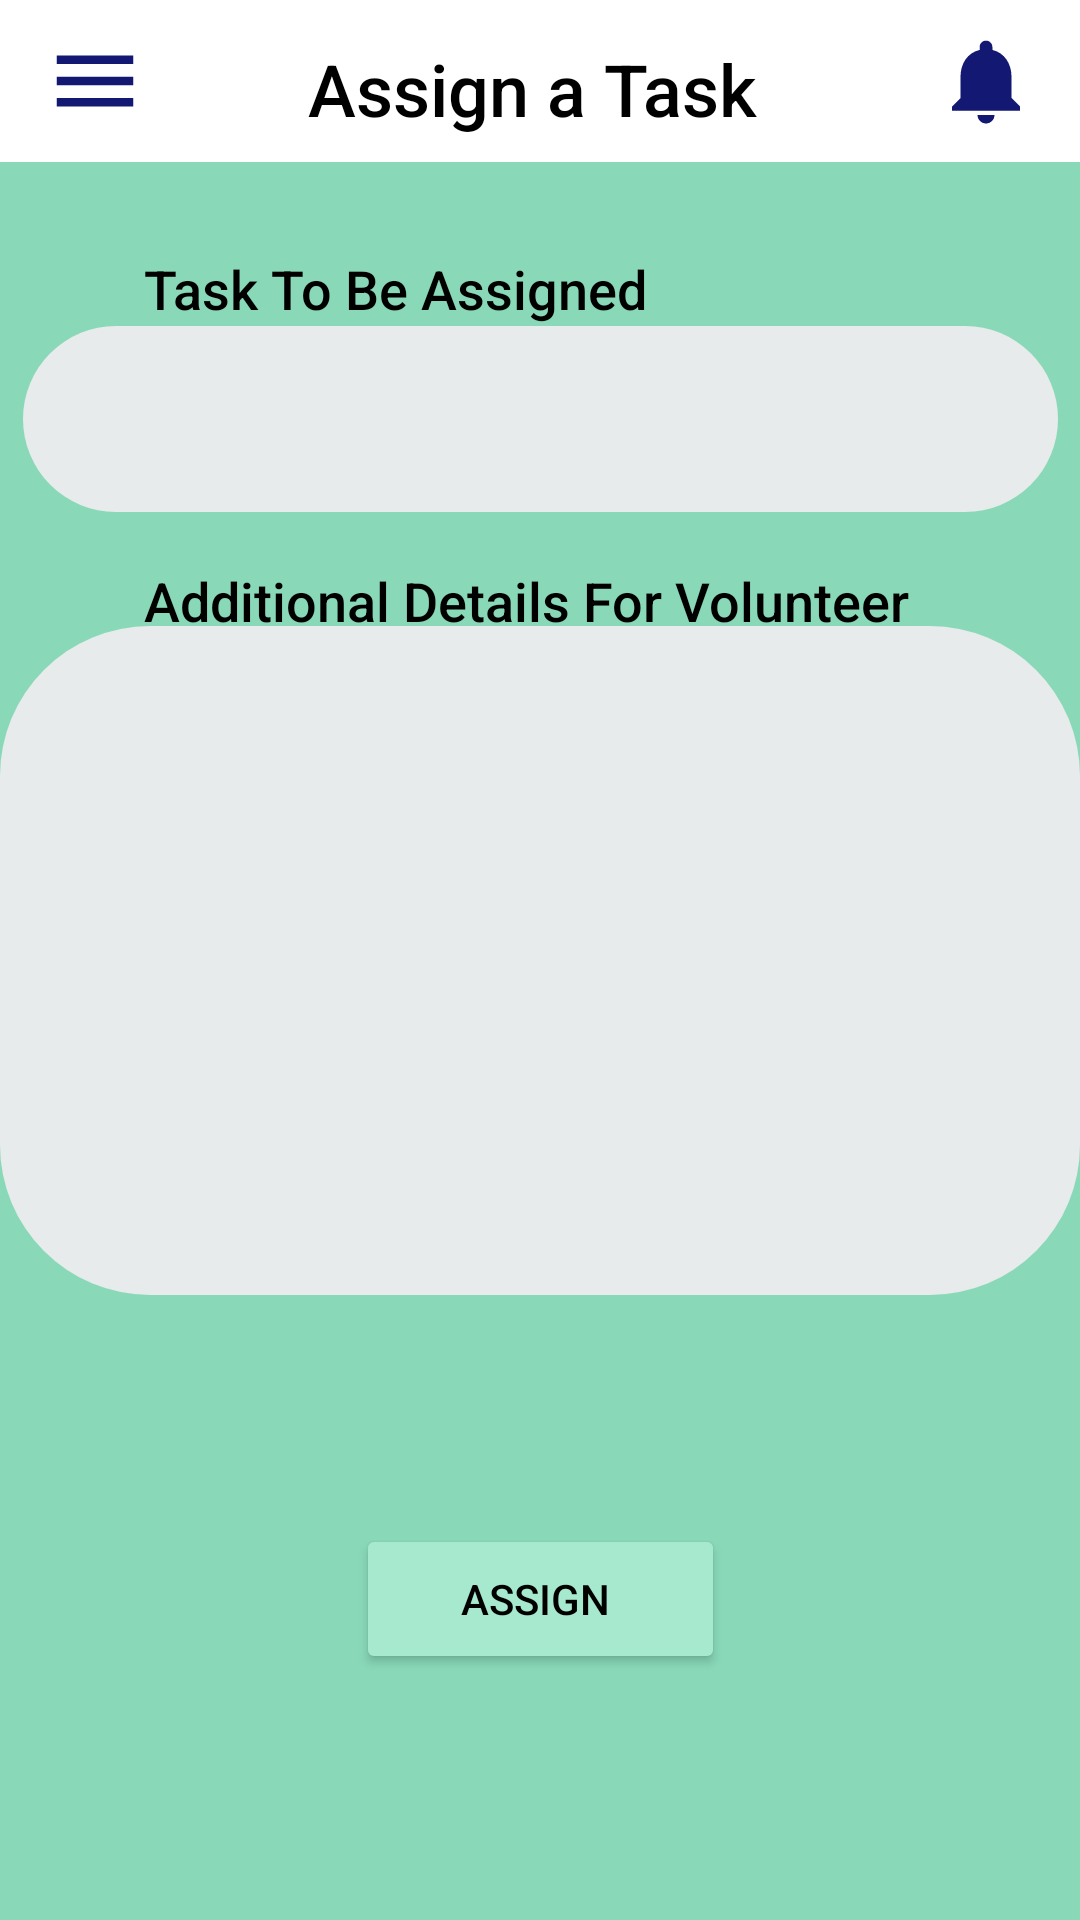

Point at icon controls on the screen. Image size 1080 x 1920, points as (x=x, y=y).
menu: (x=95, y=81)
notifications: (x=986, y=82)
